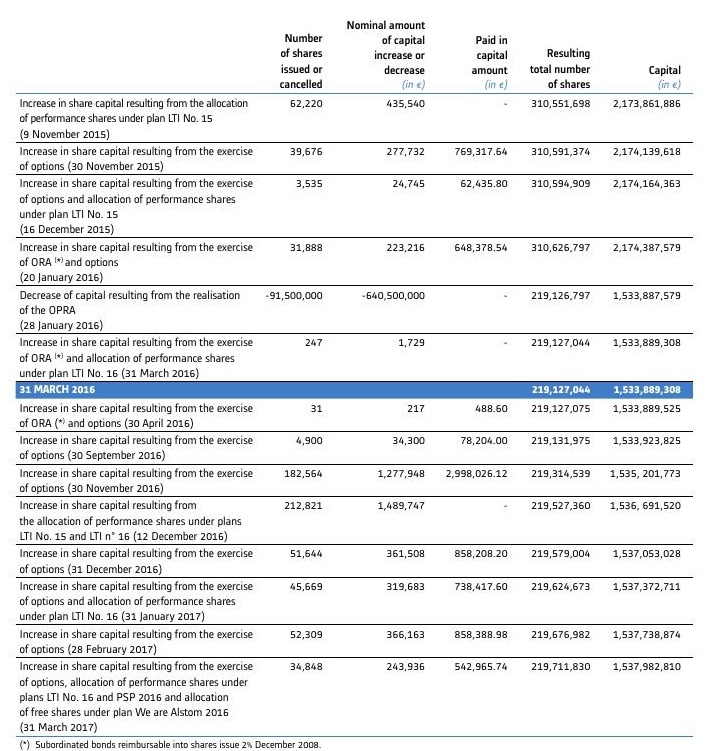table: (0, 0, 711, 751)
